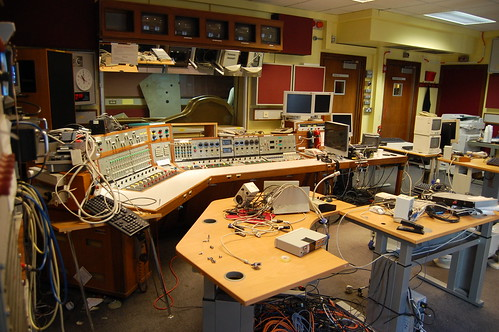door: (373, 61, 427, 151), (323, 53, 367, 140)
trash: (1, 136, 491, 332)
